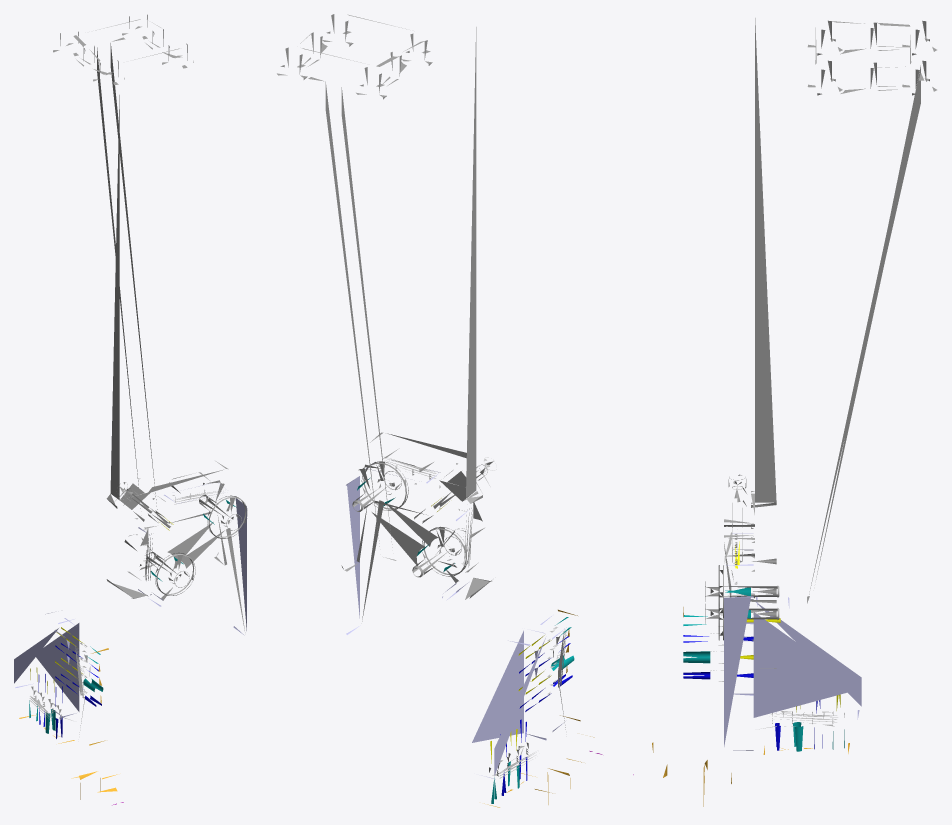
3 views of the same model, side by side, from view 1: azimuth 30°, elevation 25°; view 2: azimuth 150°, elevation 25°; view 3: azimuth 270°, elevation 25° (orthographic). The views are drawn at different scales.
Parts seen in each view (by area): view 1: F19721000063102000139_001_sym_of_zb_ub_auflage_39_fa (×6); view 2: F19721000063102000139_001_sym_of_zb_ub_auflage_39_fa (×4); view 3: F19721000063102000139_001_sym_of_zb_ub_auflage_39_fa (×6).
Boxes of the visible parts, x1=… form: F19721000063102000139_001_sym_of_zb_ub_auflage_39_fa (×6): x1=14, y1=14, x2=247, y2=738; F19721000063102000139_001_sym_of_zb_ub_auflage_39_fa (×4): x1=277, y1=14, x2=567, y2=779; F19721000063102000139_001_sym_of_zb_ub_auflage_39_fa (×6): x1=683, y1=18, x2=936, y2=751.
Size of the model in its own units: 183 by 225 by 671.
